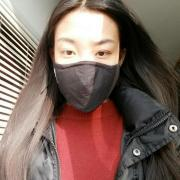OK: (51, 36, 124, 110)
